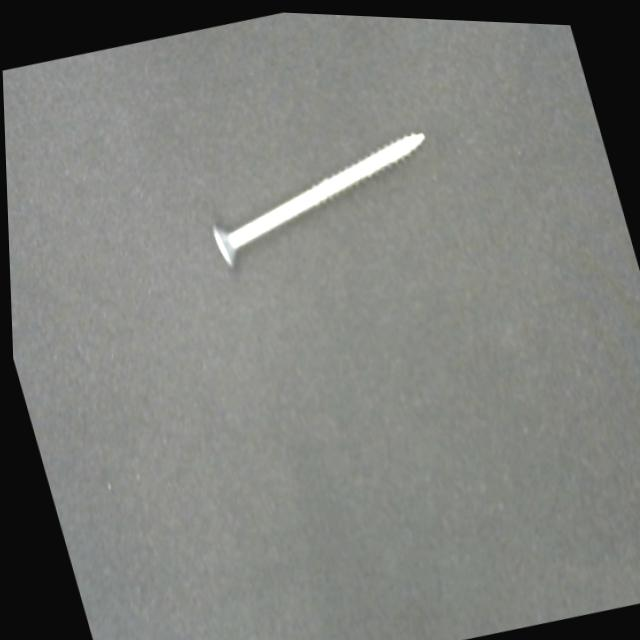WoodScrew: (191, 112, 450, 277)
